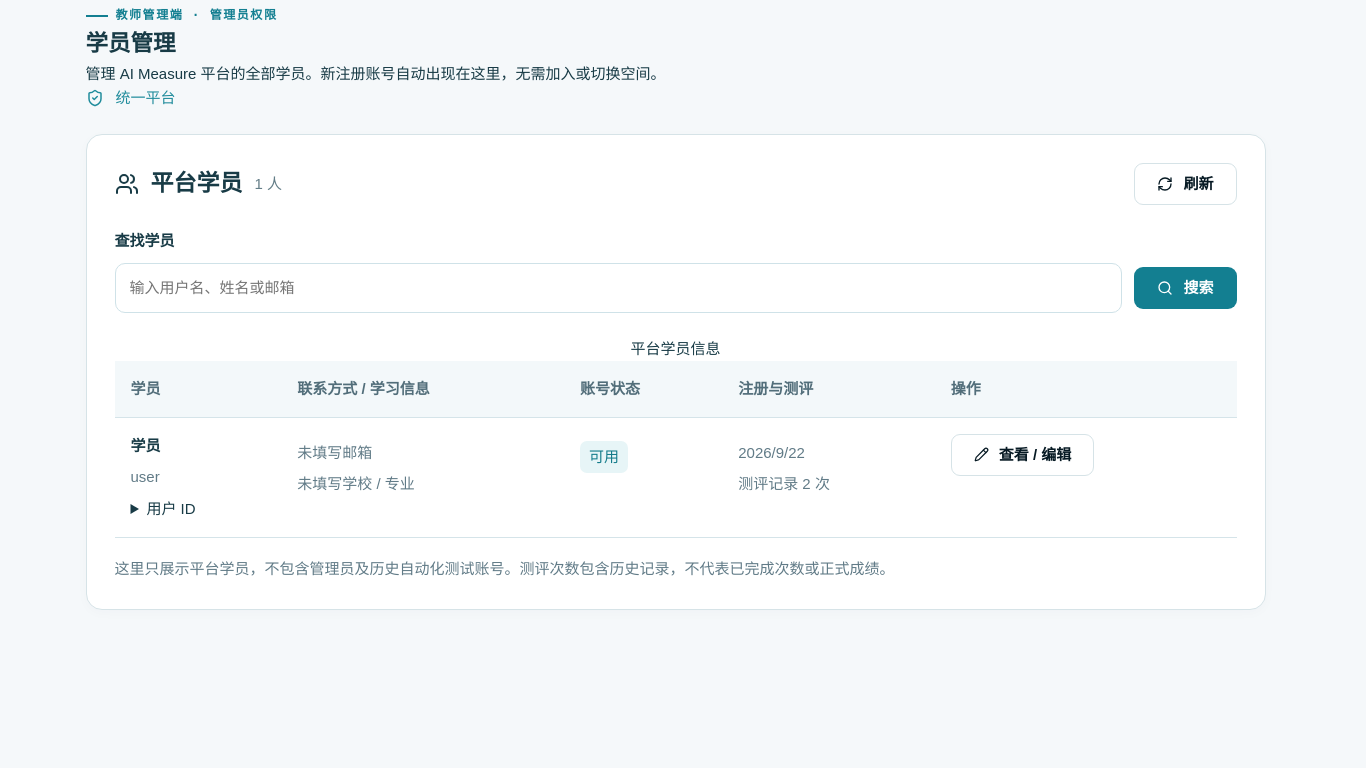
PlatformLearnersPanel › saves only on explicit submit with original revision
Click the button with test id "edit-learner-1": (1023, 455) 951,434 -> 1094,476
(page scrolled)
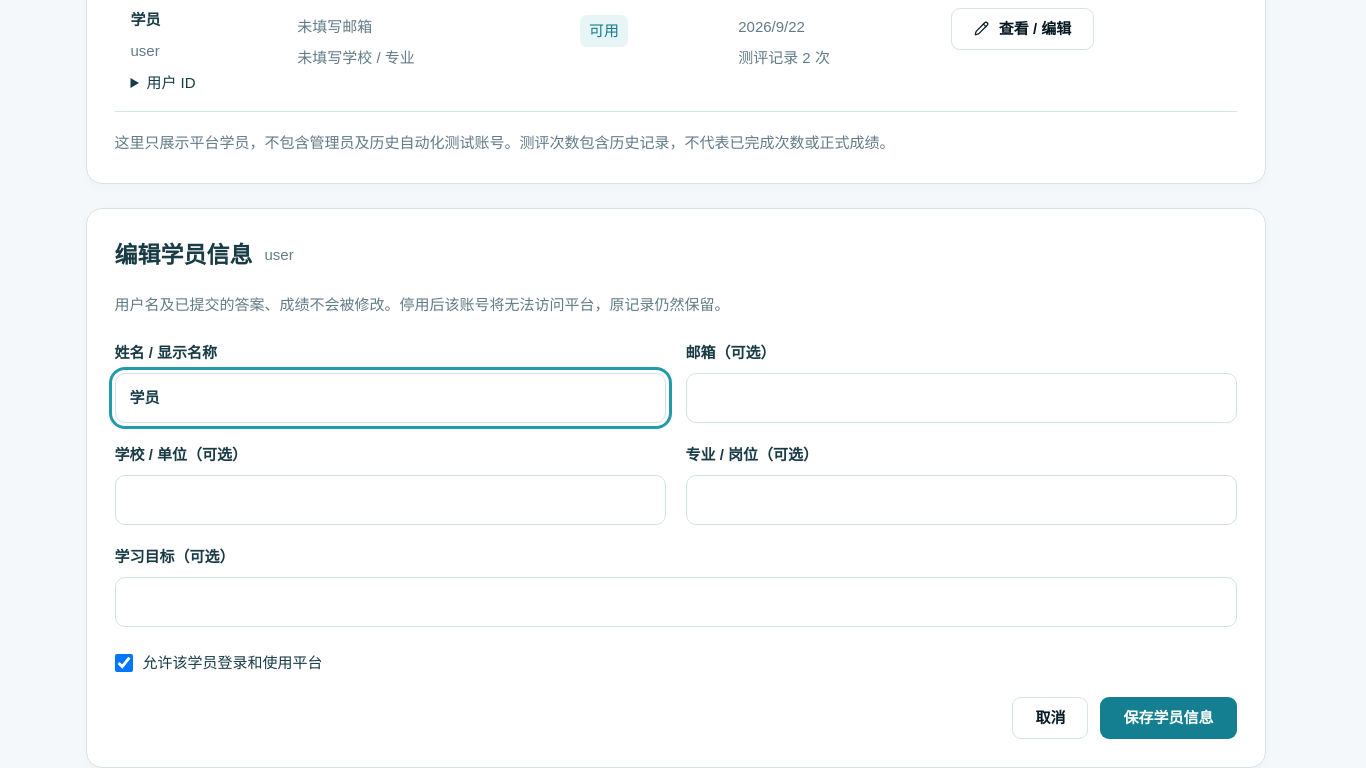
Replace the text in the field with id "learner-display-name" with "新的名称": (390, 398) 114,373 -> 666,423
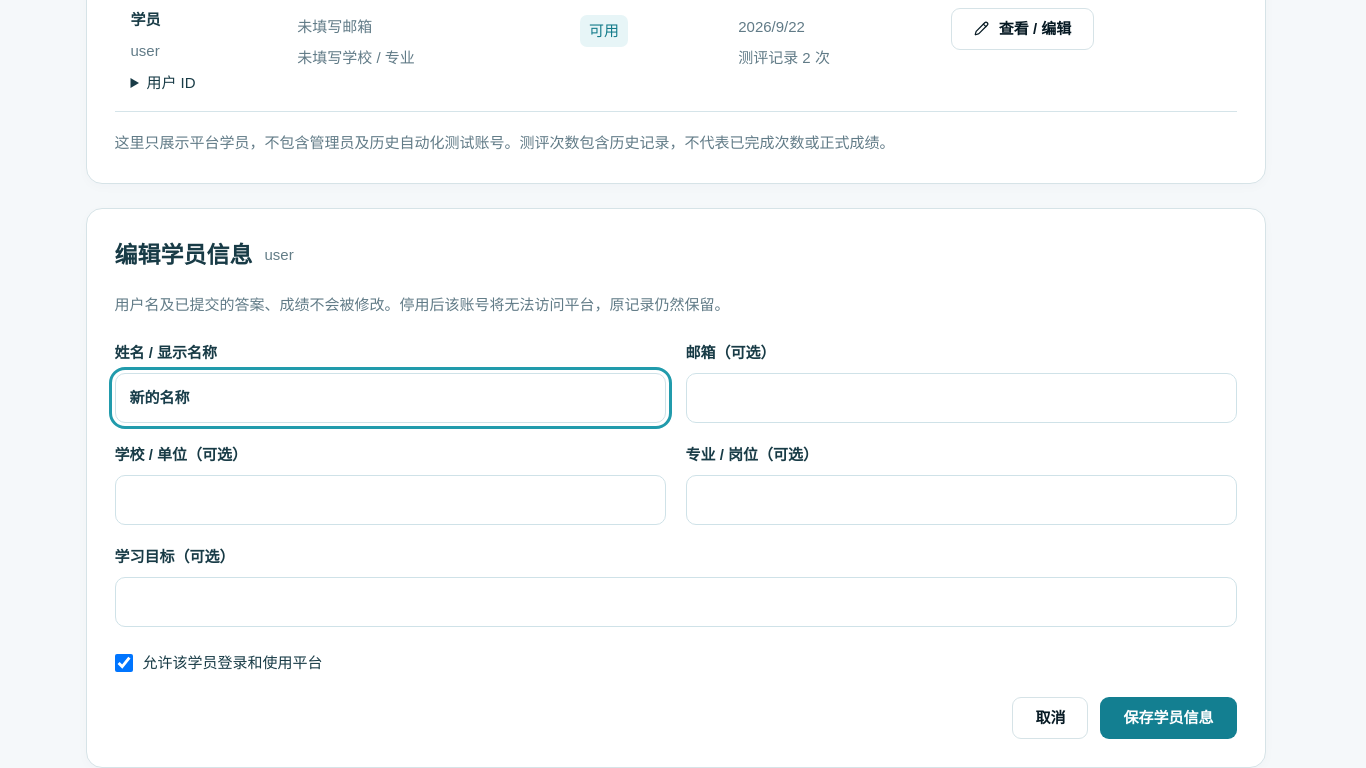
Submit the form with test id "learner-edit-form"
(page scrolled)
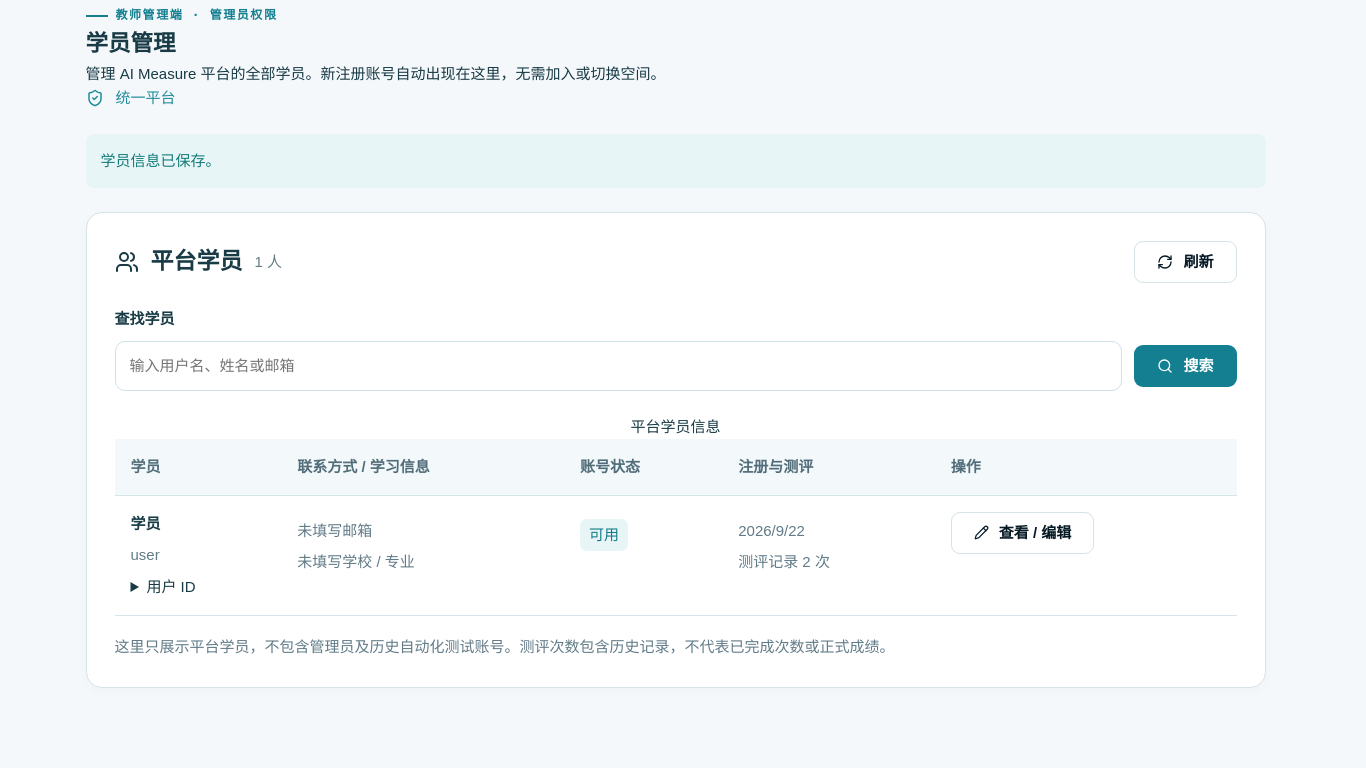
Check: the text "学员信息已保存" is shown, box 100,152 -> 220,169
